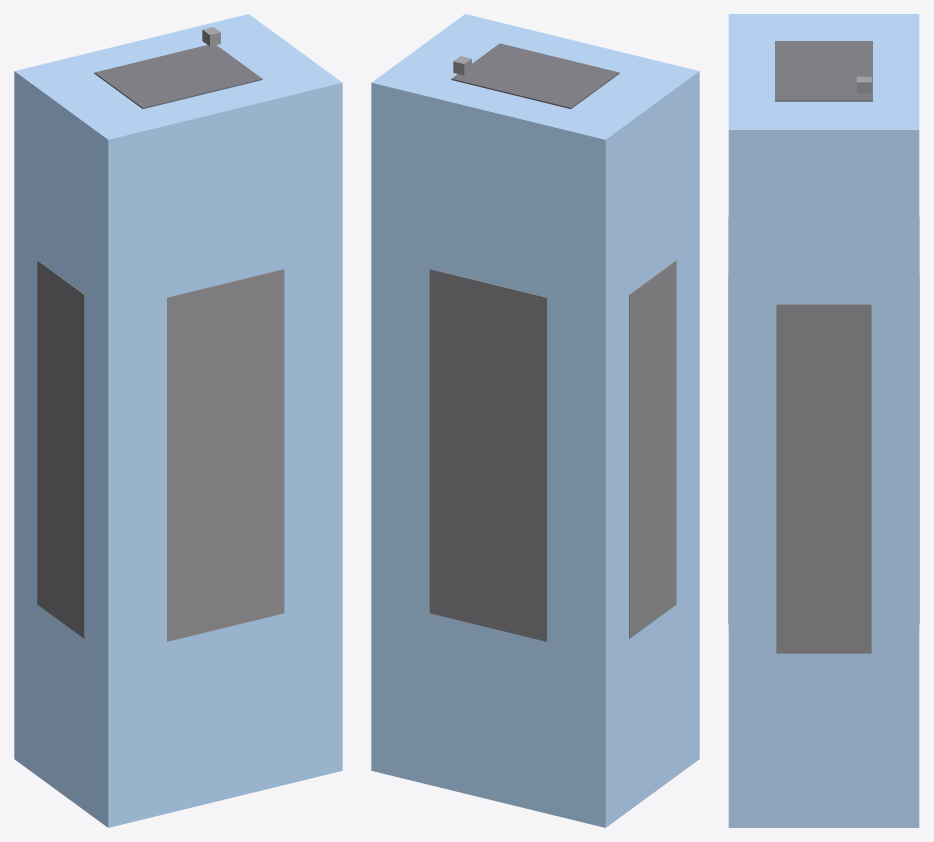
File: office_3.glb
The picture shows the model from 3 angles, left to right: view 1: azimuth 30°, elevation 25°; view 2: azimuth 150°, elevation 25°; view 3: azimuth 270°, elevation 25°; orthographic projection.
Visible parts, largest first — view 1: office_3_body, office_3_col.002, office_3_col, office_3_roof; view 2: office_3_body, office_3_col.003, office_3_col, office_3_roof; view 3: office_3_body, office_3_col.001, office_3_roof, office_3_col.002, office_3_col.003.
Part boxes in pixels (box(x1,y1,x2,y2)): office_3_body: box(14, 14, 342, 827); office_3_col.002: box(167, 269, 284, 641); office_3_col: box(37, 260, 84, 638); office_3_roof: box(94, 45, 262, 108); office_3_body: box(371, 14, 699, 827); office_3_col.003: box(429, 269, 546, 641); office_3_col: box(629, 260, 676, 638); office_3_roof: box(451, 43, 619, 108); office_3_body: box(728, 14, 919, 827); office_3_col.001: box(776, 304, 871, 653); office_3_roof: box(775, 41, 872, 101); office_3_col.002: box(728, 217, 728, 624); office_3_col.003: box(919, 217, 919, 624).
Bounding box in the file's own units: 18.79 × 53.94 × 13.06.
